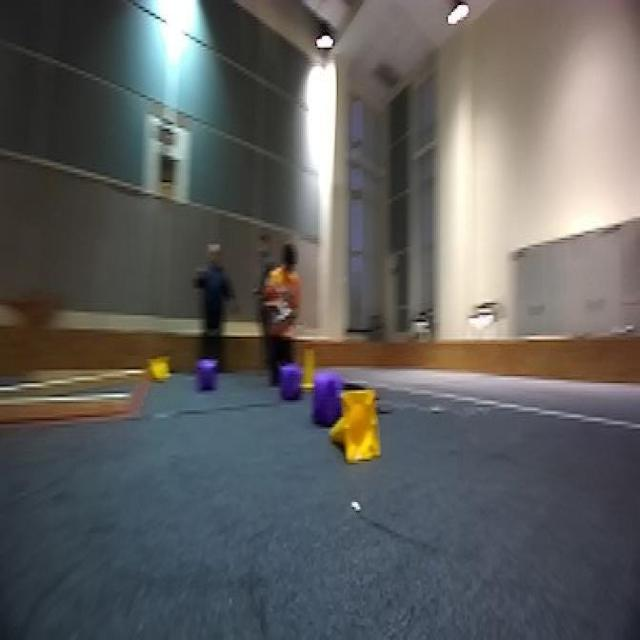frc_cone: (328, 386, 386, 466), (300, 344, 324, 393), (150, 358, 166, 382)
frc_cube: (312, 370, 350, 432), (274, 361, 301, 400), (197, 354, 218, 392)
